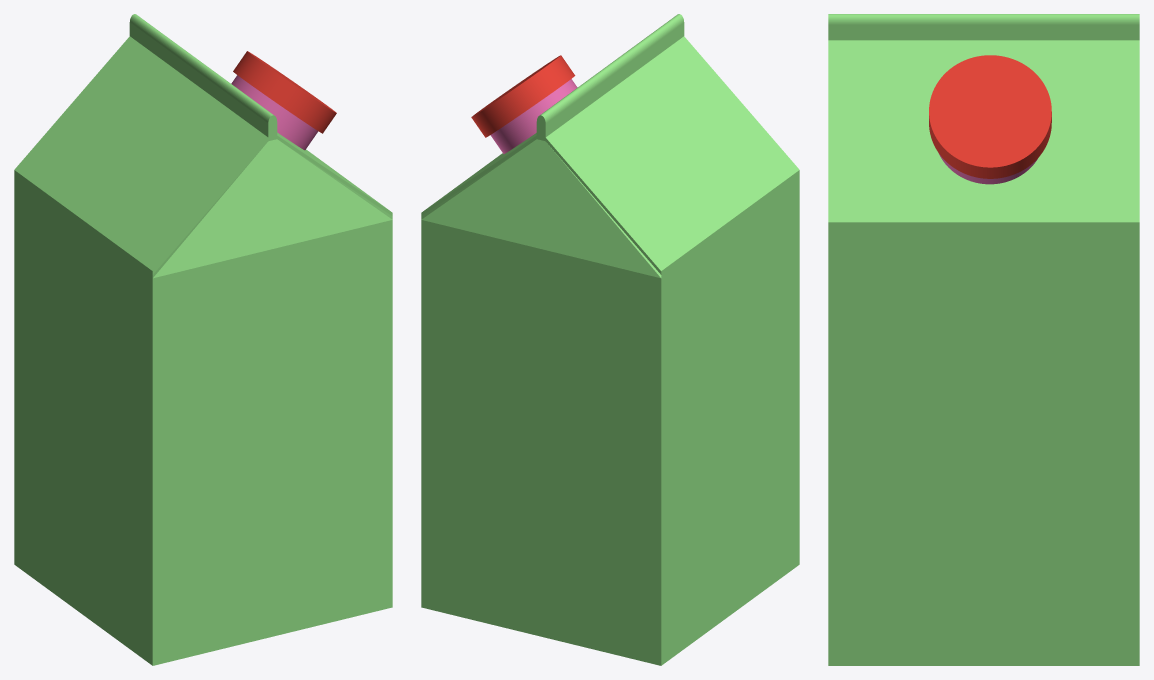
File: Einkaufsladen_Füllmaterial_Saftpackung_Klein_Variante_1_Base_Überprüft.fbx
The picture shows the model from 3 angles, left to right: view 1: azimuth 30°, elevation 25°; view 2: azimuth 150°, elevation 25°; view 3: azimuth 270°, elevation 25°; orthographic projection. The views are drawn at different scales.
Visible parts, largest first — view 1: Cube.008, Cylinder.006, Cylinder.004; view 2: Cube.008, Cylinder.006, Cylinder.004; view 3: Cube.008, Cylinder.006, Cylinder.004.
Part boxes in pixels (x1=…): Cube.008: x1=14, y1=14, x2=392, y2=665; Cylinder.006: x1=233, y1=51, x2=336, y2=133; Cylinder.004: x1=231, y1=75, x2=318, y2=150; Cube.008: x1=421, y1=14, x2=799, y2=665; Cylinder.006: x1=471, y1=55, x2=575, y2=137; Cylinder.004: x1=490, y1=79, x2=577, y2=153; Cube.008: x1=828, y1=14, x2=1139, y2=665; Cylinder.006: x1=929, y1=55, x2=1051, y2=178; Cylinder.004: x1=939, y1=154, x2=1037, y2=184.
Size of the model in its own units: 466 by 939 by 453.
